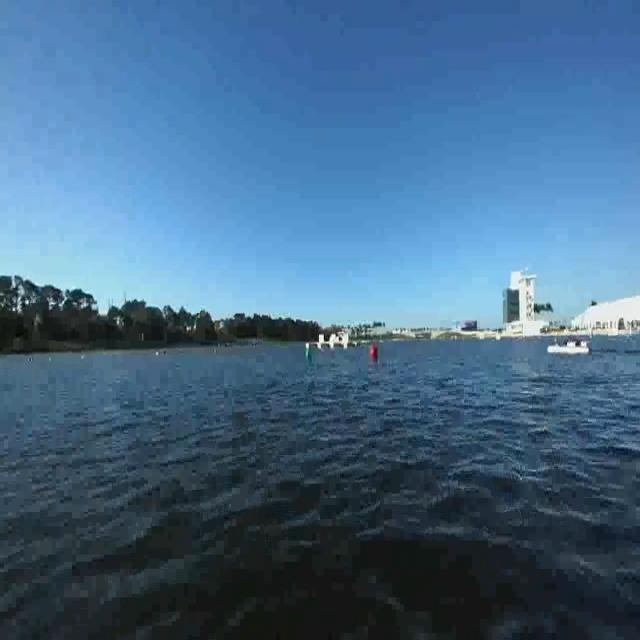green-buoy: (304, 346, 314, 362)
red-column-buoy: (369, 345, 376, 360)
